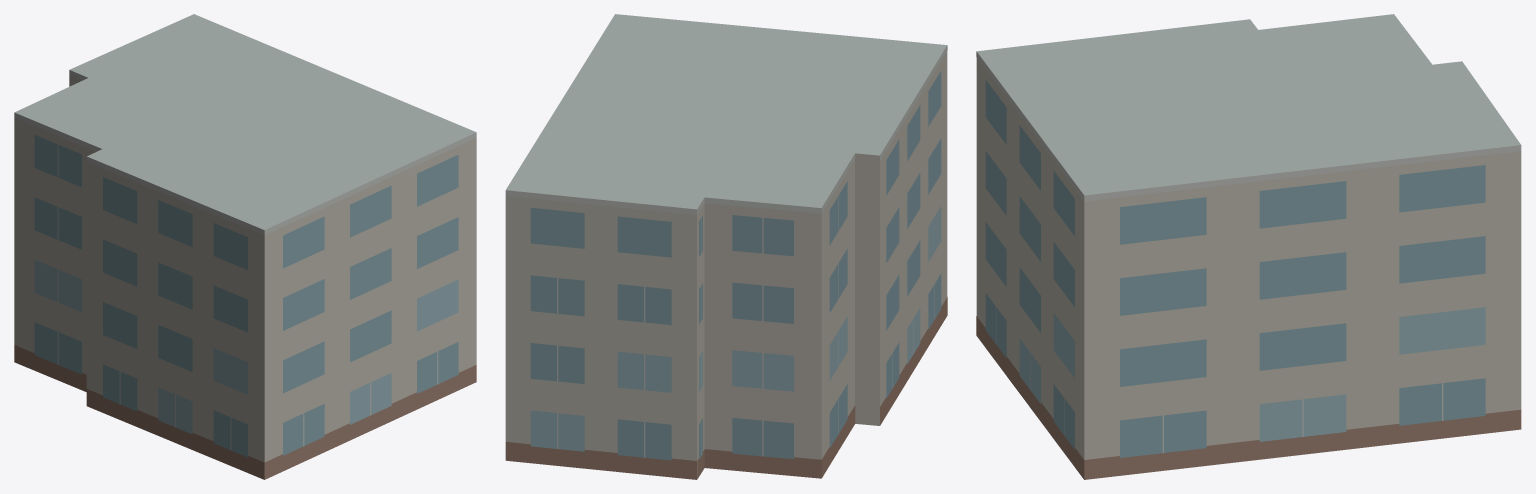
Rendered from survey-upis-32524188.glb.
The picture shows the model from 3 angles, left to right: view 1: azimuth 30°, elevation 25°; view 2: azimuth 150°, elevation 25°; view 3: azimuth 270°, elevation 25°; orthographic projection. The views are drawn at different scales.
Visible parts, largest first — view 1: survey-upis-32524188.tmp; view 2: survey-upis-32524188.tmp; view 3: survey-upis-32524188.tmp.
Boxes of the visible parts, <box> form: survey-upis-32524188.tmp: <box>14,14,476,479</box>; survey-upis-32524188.tmp: <box>505,14,947,479</box>; survey-upis-32524188.tmp: <box>976,14,1521,479</box>.
Size of the model in its own units: 16.02 by 11.7 by 20.32.
